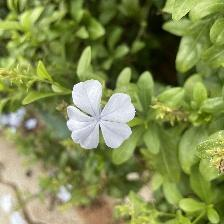chitrak: (67, 76, 135, 156)
